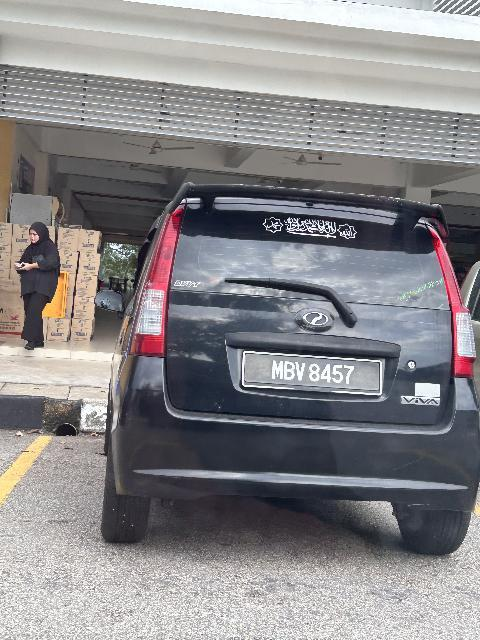License_Plate: (242, 353, 384, 399)
MBV8457: (242, 353, 384, 399)
car: (81, 179, 480, 563)
